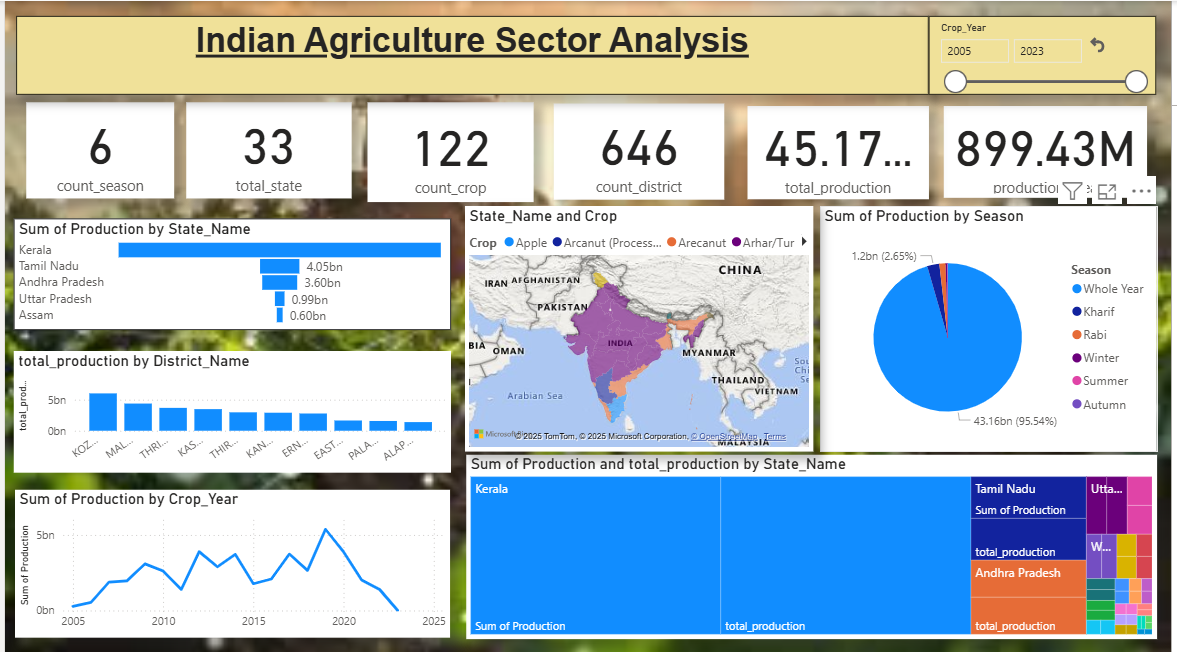

What the dashboard file says about the page in this screenshot:
{"tool":"powerbi","page":{"name":"Page 1","canvas":[1280,720],"ordinal":0},"visuals":[{"type":"card","fields":{"Values":["[phone redacted]-apy_1 (2).count_season"]},"box":[23.3,111.6,162.8,105.8],"z":0},{"type":"card","fields":{"Values":["[phone redacted]-apy_1 (2).count_district"]},"box":[602.3,112.8,187.2,105.8],"z":1000},{"type":"card","fields":{"Values":["[phone redacted]-apy_1 (2).production_area"]},"box":[1030.2,115.1,223.3,101.2],"z":2000},{"type":"card","fields":{"Values":["[phone redacted]-apy_1 (2).total_production"]},"box":[815.1,115.1,198.8,102.3],"z":3000},{"type":"card","fields":{"Values":["[phone redacted]-apy_1 (2).total_state"]},"box":[198.8,111.6,181.4,105.8],"z":4000},{"type":"card","fields":{"Values":["[phone redacted]-apy_1 (2).count_crop"]},"box":[397.7,111.6,182.6,109.3],"z":5000},{"type":"funnel","fields":{"Category":["[phone redacted]-apy_1 (2).State_Name"],"Y":["Sum([phone redacted]-apy_1 (2).Production)"]},"box":[9.3,238.4,480.2,122.1],"z":6000},{"type":"textbox","box":[12.3,16.5,1001.7,86.4],"z":7000},{"type":"treemap","fields":{"Group":["[phone redacted]-apy_1 (2).State_Name"],"Values":["Sum([phone redacted]-apy_1 (2).Production)","[phone redacted]-apy_1 (2).total_production"]},"box":[507,497.7,758.1,202.3],"z":8000},{"type":"columnChart","fields":{"Category":["[phone redacted]-apy_1 (2).District_Name"],"Y":["[phone redacted]-apy_1 (2).total_production"]},"box":[9.3,383.7,480.2,133.7],"z":9000},{"type":"pieChart","fields":{"Category":["[phone redacted]-apy_1 (2).Season"],"Y":["Sum([phone redacted]-apy_1 (2).Production)"]},"box":[895.4,225.6,369.8,269.8],"z":10000},{"type":"lineChart","fields":{"Category":["[phone redacted]-apy_1 (2).Crop_Year"],"Y":["Sum([phone redacted]-apy_1 (2).Production)"]},"box":[11.6,537.2,477.9,162.8],"z":11000},{"type":"filledMap","fields":{"Category":["[phone redacted]-apy_1 (2).State_Name"],"Series":["[phone redacted]-apy_1 (2).Crop"]},"box":[504.7,225.6,382.6,269.8],"z":12000},{"type":"slicer","fields":{"Values":["[phone redacted]-apy_1 (2).Crop_Year"]},"box":[1014.1,16.5,249.7,86.4],"z":13000},{"type":"actionButton","box":[1187,35.7,76.8,24.7],"z":14000}]}

Visuals, with their boxes in screenshot pixels (x1, y1, x2, y2), scaled from the page's 1280x720 canvas onto the 1177x652 screenshot:
card - [phone redacted]-apy_1 (2).count_season: rect(21, 101, 171, 197)
card - [phone redacted]-apy_1 (2).count_district: rect(554, 102, 726, 198)
card - [phone redacted]-apy_1 (2).production_area: rect(947, 104, 1153, 196)
card - [phone redacted]-apy_1 (2).total_production: rect(750, 104, 932, 197)
card - [phone redacted]-apy_1 (2).total_state: rect(183, 101, 350, 197)
card - [phone redacted]-apy_1 (2).count_crop: rect(366, 101, 534, 200)
funnel - [phone redacted]-apy_1 (2).State_Name x Sum([phone redacted]-apy_1 (2).Production): rect(9, 216, 450, 326)
textbox: rect(11, 15, 932, 93)
treemap - [phone redacted]-apy_1 (2).State_Name x Sum([phone redacted]-apy_1 (2).Production): rect(466, 451, 1163, 634)
columnChart - [phone redacted]-apy_1 (2).District_Name x [phone redacted]-apy_1 (2).total_production: rect(9, 347, 450, 469)
pieChart - [phone redacted]-apy_1 (2).Season x Sum([phone redacted]-apy_1 (2).Production): rect(823, 204, 1163, 449)
lineChart - [phone redacted]-apy_1 (2).Crop_Year x Sum([phone redacted]-apy_1 (2).Production): rect(11, 486, 450, 634)
filledMap - [phone redacted]-apy_1 (2).State_Name x [phone redacted]-apy_1 (2).Crop: rect(464, 204, 816, 449)
slicer - [phone redacted]-apy_1 (2).Crop_Year: rect(932, 15, 1162, 93)
actionButton: rect(1091, 32, 1162, 55)
